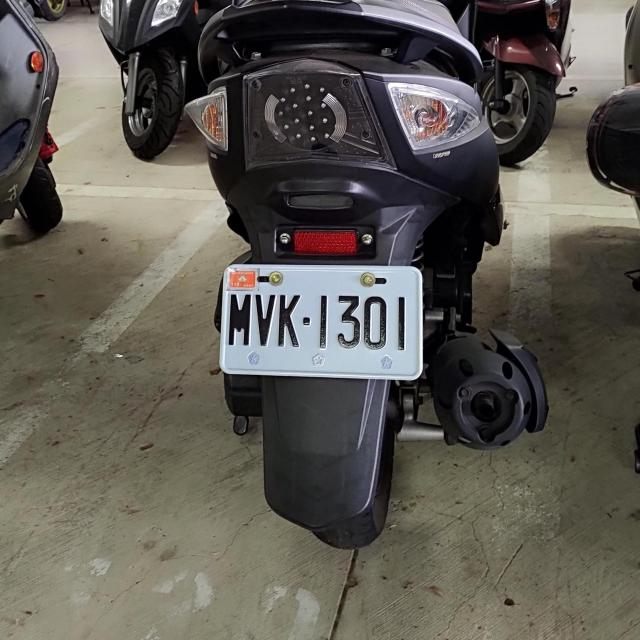W: (221, 263, 422, 378)
